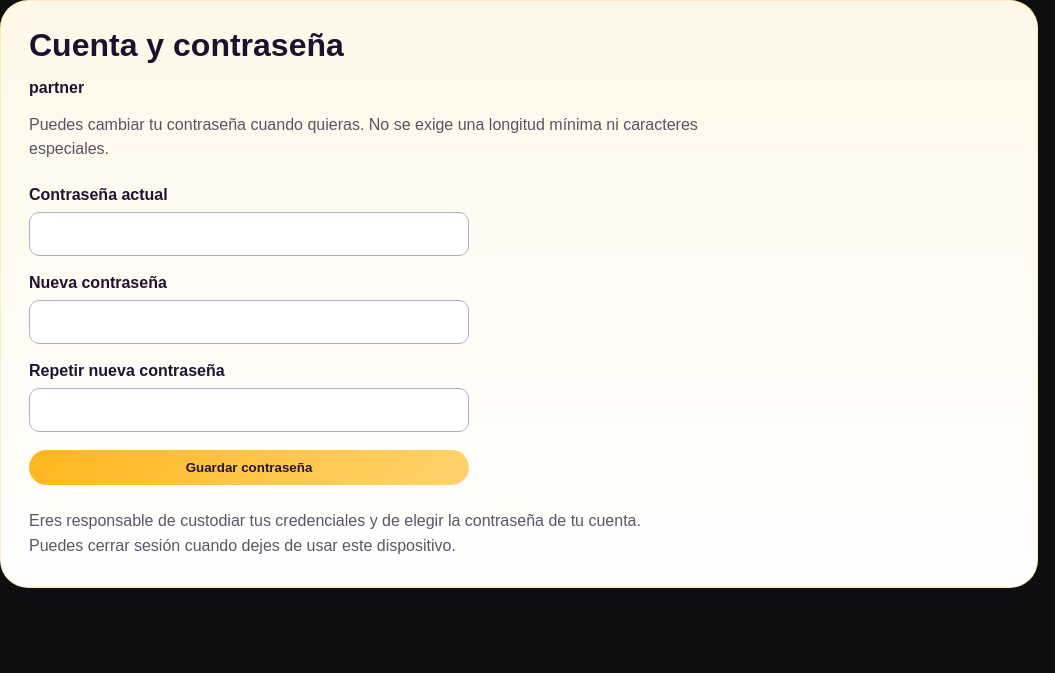
Test: mismatch stays in the form without changing the account
Type "partner" into the password field labelled "Contraseña actual". click: [249, 234]
box: [29,212,469,256]
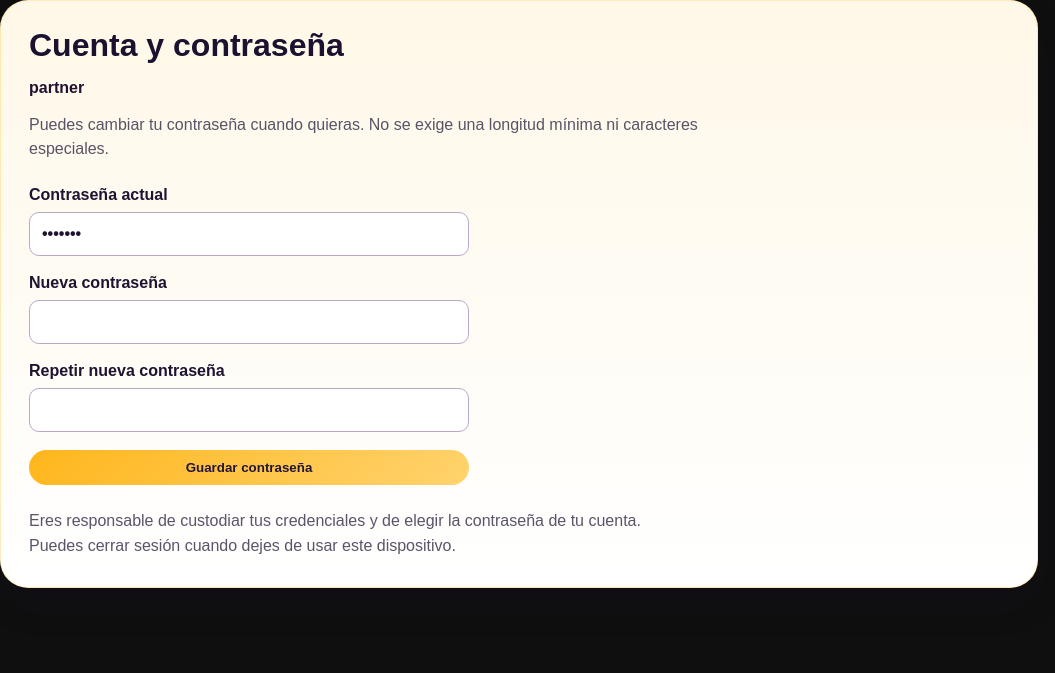
Type "abc" into the password field labelled "Nueva contraseña". click: [249, 322]
box: [29,300,469,344]
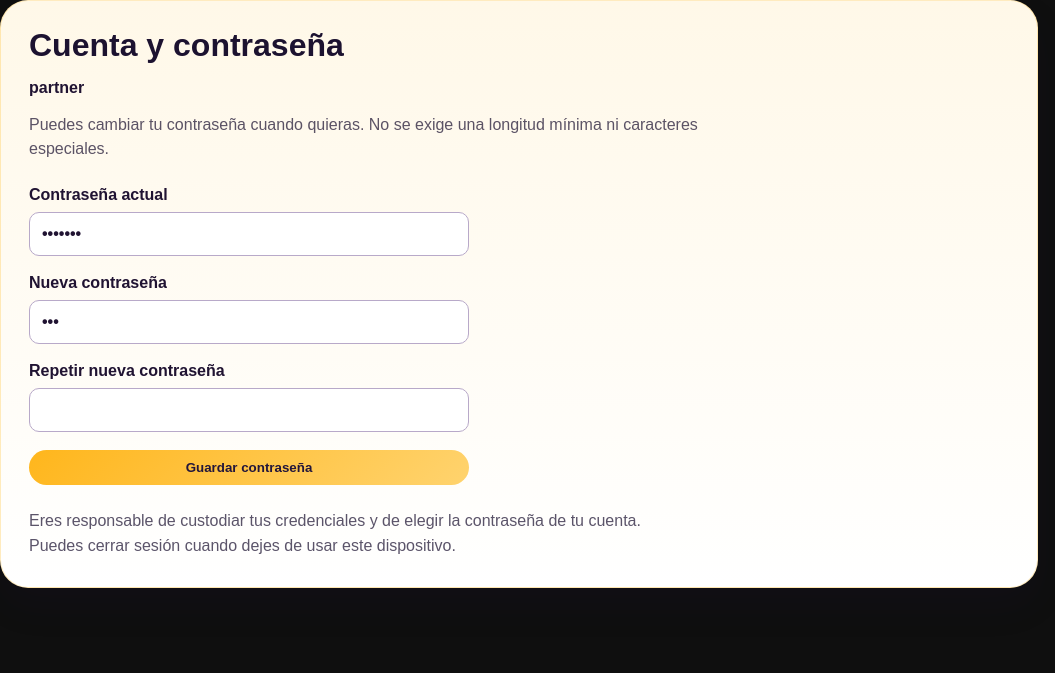
Type "different" into the password field labelled "Repetir nueva contraseña". click: [249, 410]
box: [29,388,469,432]
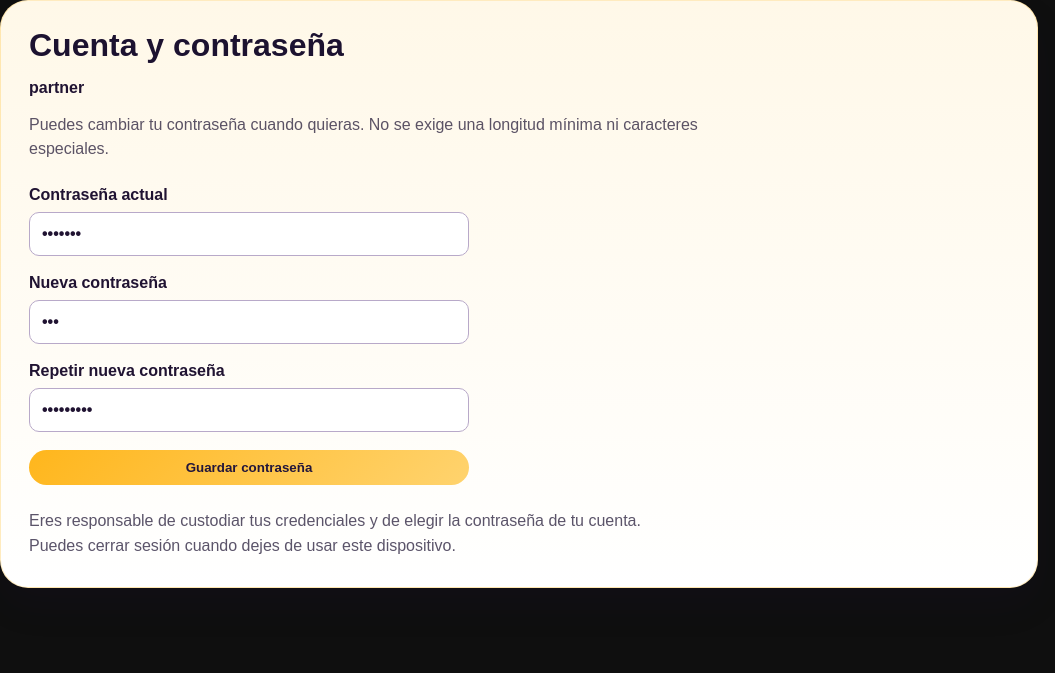
Click the button "Guardar contraseña". click: [249, 468]
box: [29,450,469,485]
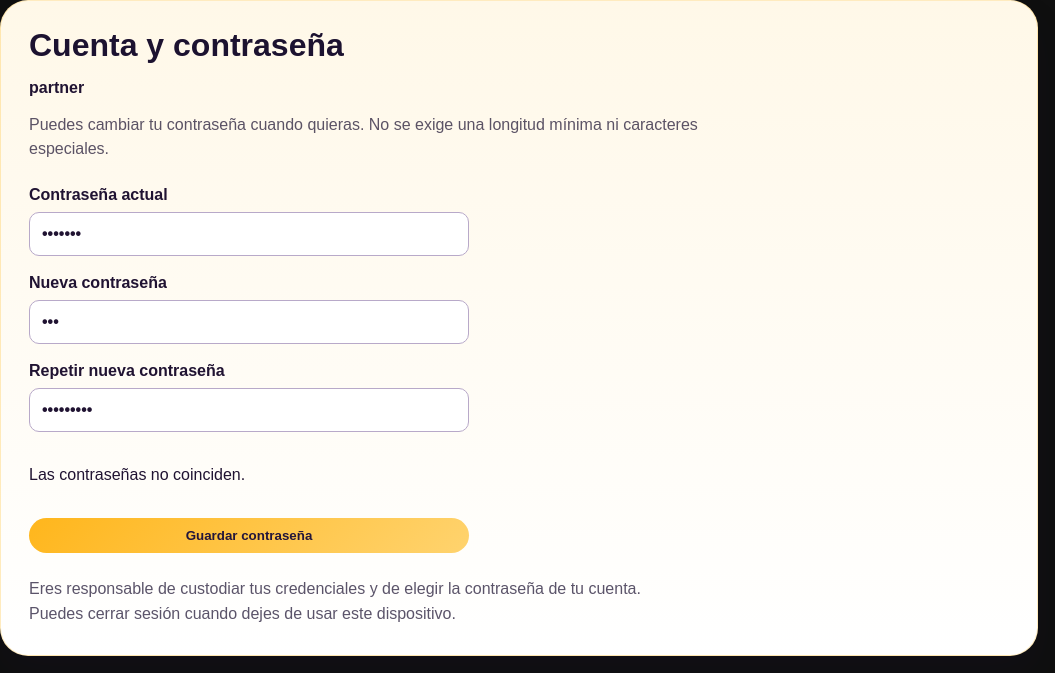
Expected: the message shows "no coinciden", [29,466,245,483]
